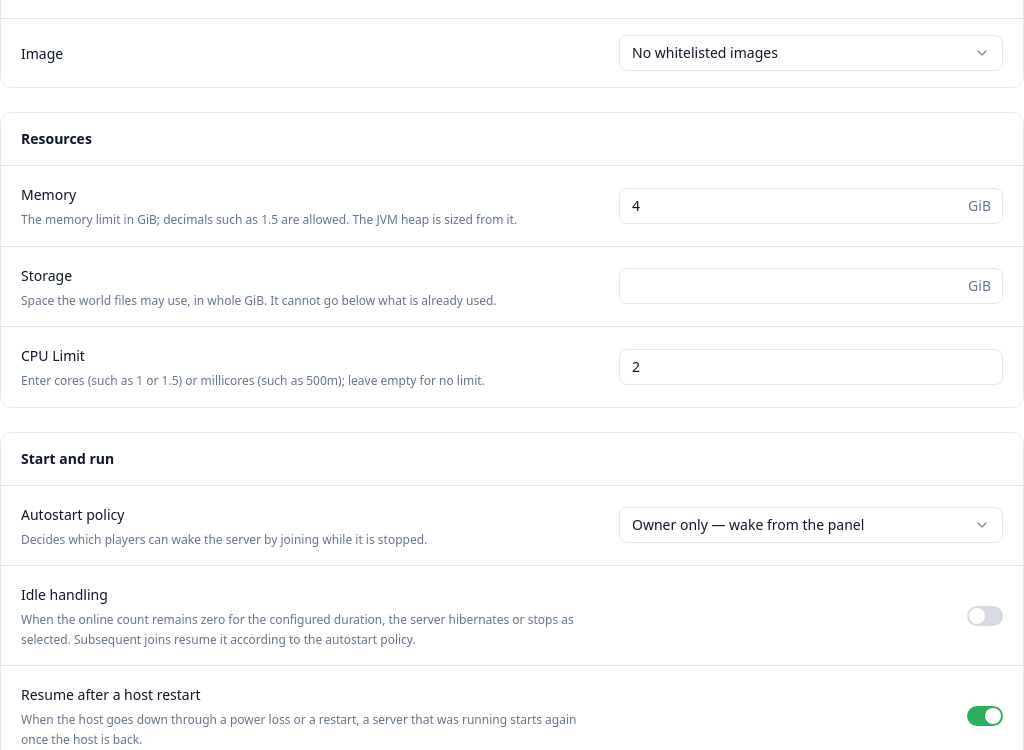
Test case: ServerConsole settings › puts every field back and hides the bar when the changes are discarded
(page scrolled)
Replace the text in the field labelled "CPU Limit" with "500m" at [811, 367], box [619,349,1003,385]
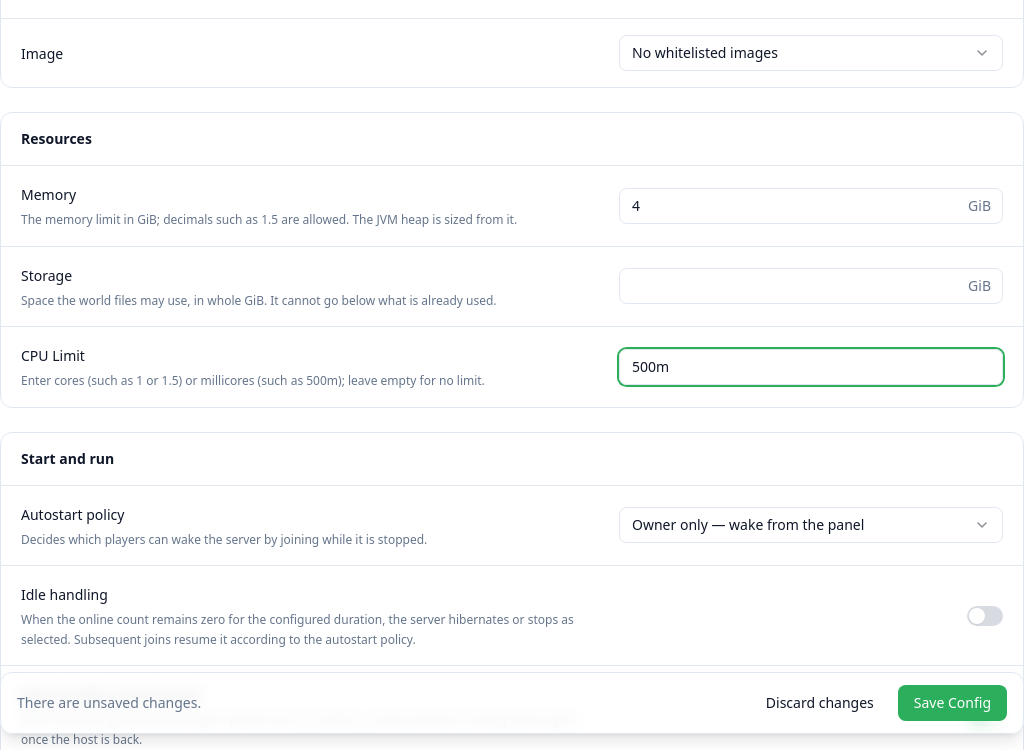
Click the button "Discard changes" at [820, 703], box [750,685,890,721]
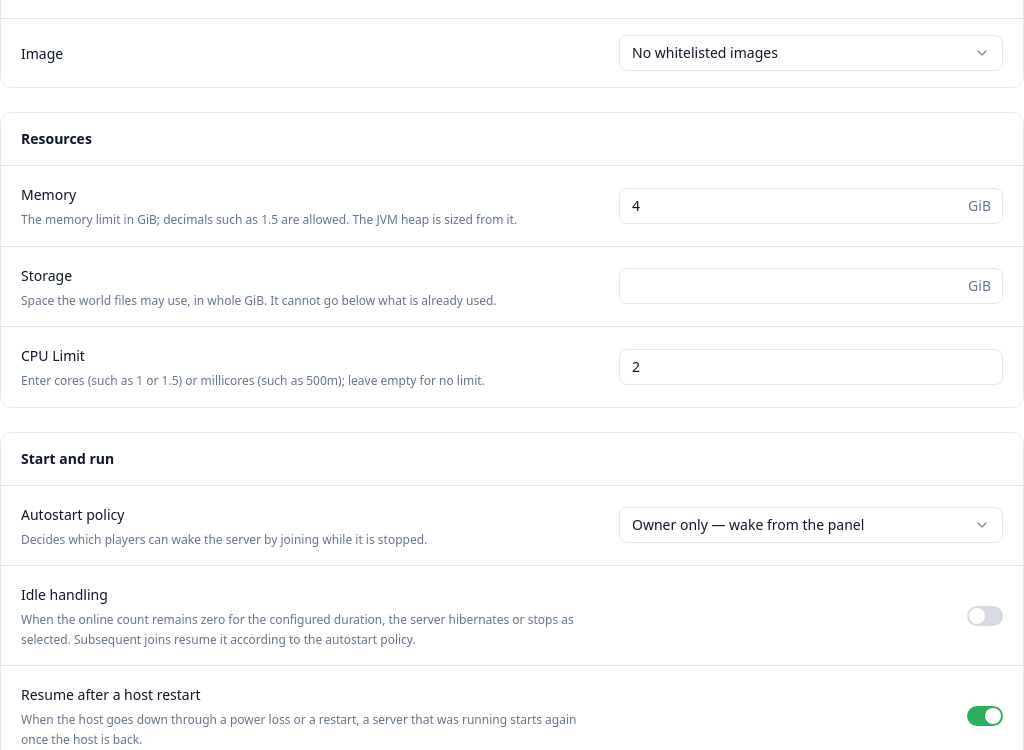
Now the field labelled "CPU Limit" holds "2", box [619,349,1003,385]
